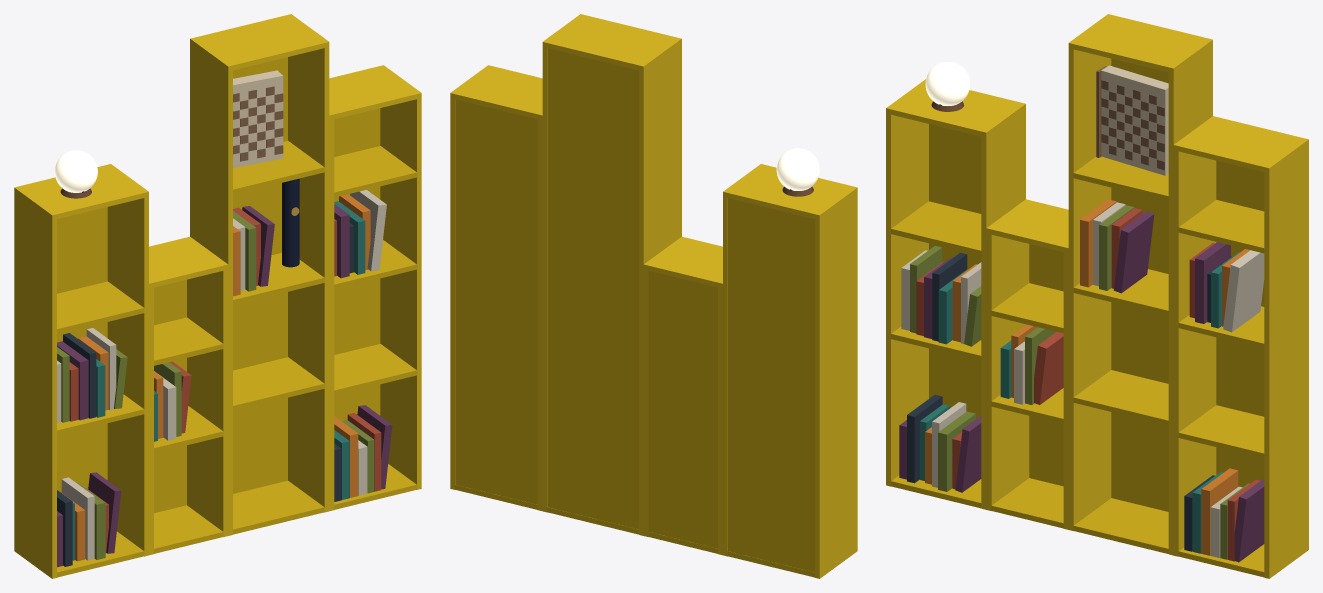
Rendered from bookshelf.glb.
The picture shows the model from 3 angles, left to right: view 1: azimuth 30°, elevation 25°; view 2: azimuth 150°, elevation 25°; view 3: azimuth 330°, elevation 25°; orthographic projection. The views are drawn at different scales.
Parts seen in each view (by area): view 1: side_right_c, side_left_a, side_right_d, side_right_a, back_c, side_left_c, side_right_b, back_a, back_d, top_c, top_a, back_b (+50 smaller); view 2: back_c, back_d, back_a, back_b, side_left_a, side_left_c, top_c, top_a, top_d, side_right_c, top_b, side_right_d (+6 smaller); view 3: side_right_d, side_left_c, back_c, side_left_d, side_left_a, side_left_b, back_a, back_d, side_right_a, side_right_c, top_c, chess_case (+52 smaller).
Part boxes in pixels (bbox=[...]): side_right_c: bbox=[288, 42, 329, 512]; side_left_a: bbox=[14, 193, 56, 578]; side_right_d: bbox=[379, 65, 421, 489]; side_right_a: bbox=[107, 197, 148, 556]; back_c: bbox=[233, 57, 287, 493]; side_left_c: bbox=[190, 44, 232, 535]; side_right_b: bbox=[187, 269, 228, 536]; back_a: bbox=[57, 207, 107, 492]; back_d: bbox=[334, 108, 380, 420]; top_c: bbox=[190, 14, 328, 71]; top_a: bbox=[14, 164, 148, 220]; back_b: bbox=[154, 279, 186, 513]; back_c: bbox=[547, 48, 638, 529]; back_d: bbox=[455, 99, 537, 504]; back_a: bbox=[728, 198, 814, 572]; back_b: bbox=[648, 271, 717, 548]; side_left_a: bbox=[815, 193, 857, 578]; side_left_c: bbox=[639, 44, 681, 535]; top_c: bbox=[543, 14, 681, 71]; top_a: bbox=[723, 164, 857, 220]; top_d: bbox=[455, 66, 542, 119]; side_right_c: bbox=[542, 42, 547, 512]; top_b: bbox=[643, 236, 722, 288]; side_right_d: bbox=[450, 65, 492, 489]; side_right_d: bbox=[1264, 138, 1308, 578]; side_left_c: bbox=[1068, 43, 1111, 530]; back_c: bbox=[1111, 58, 1168, 511]; side_left_d: bbox=[1173, 116, 1217, 556]; side_left_a: bbox=[886, 113, 928, 486]; side_left_b: bbox=[986, 233, 1029, 510]; back_a: bbox=[929, 124, 981, 418]; back_d: bbox=[1216, 160, 1264, 487]; side_right_a: bbox=[981, 109, 1025, 509]; side_right_c: bbox=[1168, 45, 1212, 555]; top_c: bbox=[1069, 14, 1212, 73]; chess_case: bbox=[1101, 65, 1168, 175].
Bounding box in the file's own units: 1.68 × 2.04 × 0.3001.
